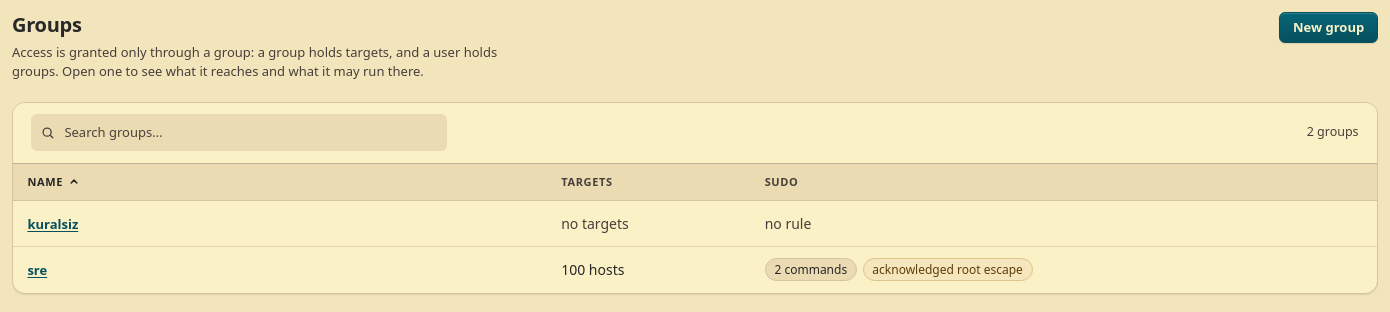
Scenario: rolleri sayılarıyla listeliyor ve aramayı hedef adına açıyor
The image size is (1390, 312).
Expected: the text "100 hosts" is shown, [547,246,750,293]
Expected: the text "2 commands" is shown, [765,258,857,281]
Type "host-042" into the search field with placeholder "Search groups…" at (239, 133), box [31,114,447,152]
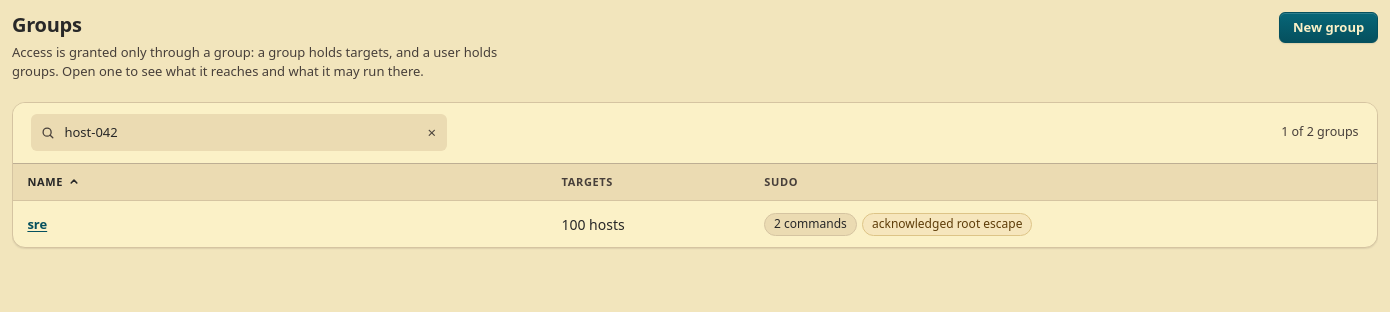
Expected: the button "sre" is shown, [27,215,251,235]
Result: the button "kuralsiz" is gone
